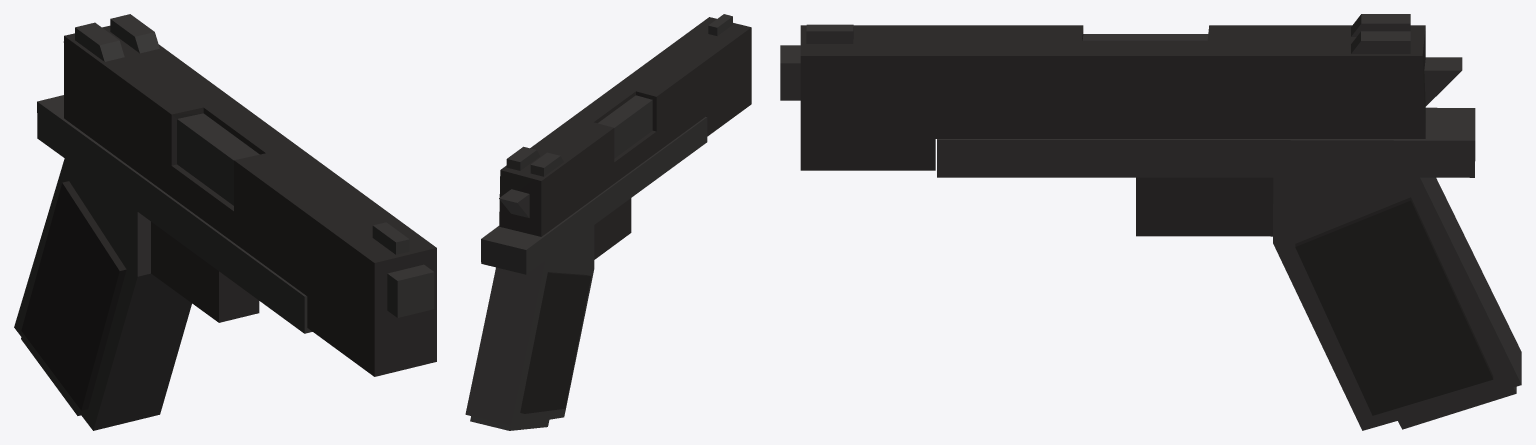
File: Pistol191.FBX
3 views of the same model, side by side, from view 1: azimuth 30°, elevation 25°; view 2: azimuth 150°, elevation 25°; view 3: azimuth 270°, elevation 25° (orthographic). The views are drawn at different scales.
Visible parts, largest first — view 1: Pistol191_Slide, Pistol191; view 2: Pistol191, Pistol191_Slide, Pistol191Mag; view 3: Pistol191_Slide, Pistol191, Pistol191Mag.
Boxes of the visible parts, x1,y1,x2,y2 form: Pistol191_Slide: (63,14,436,376); Pistol191: (14,95,434,430); Pistol191: (465,117,707,425); Pistol191_Slide: (499,14,751,236); Pistol191Mag: (470,416,549,430); Pistol191_Slide: (800,14,1462,170); Pistol191: (780,45,1521,430); Pistol191Mag: (1398,386,1516,429).
Bounding box in the file's own units: 6.93 × 55.12 × 31.81.
